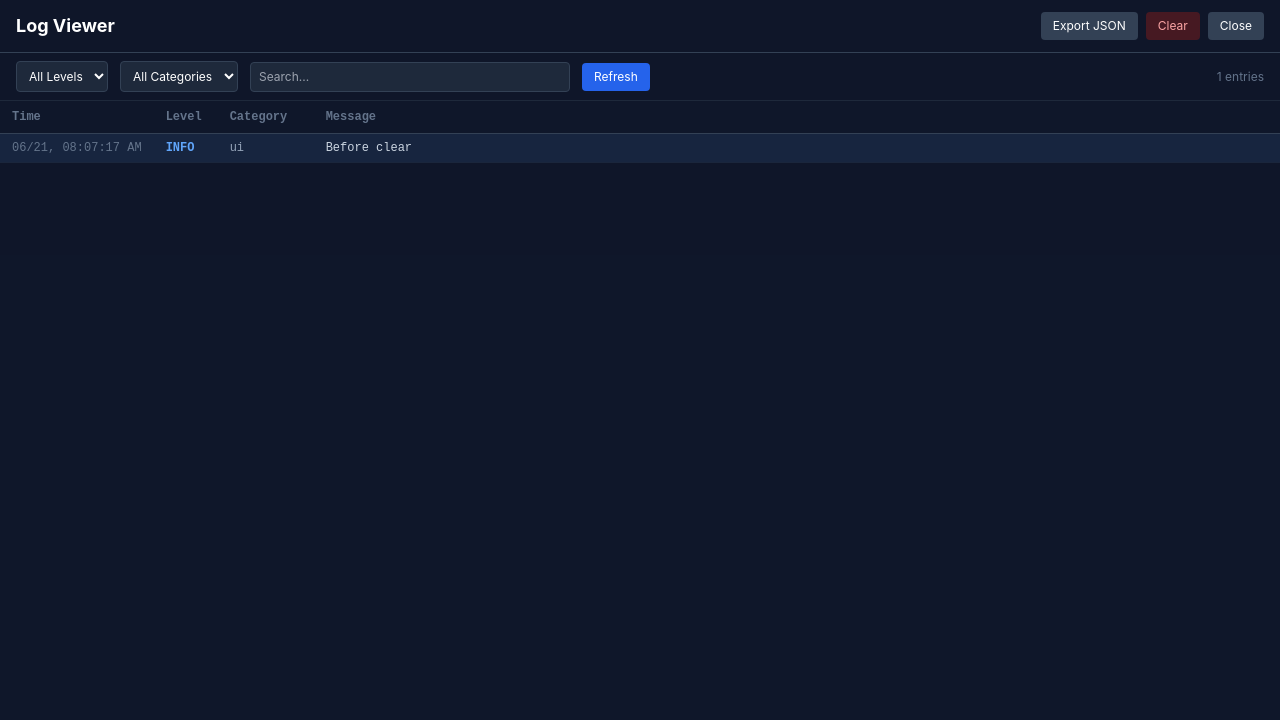
Test: LogViewer › Clearボタン後にgetEntriesが空配列で再取得される
The image size is (1280, 720).
Expected: the text "Before clear" is shown, [326,141,412,155]
Step 1. Click the button "Clear" → (1173, 26), box [1146,12,1200,40]
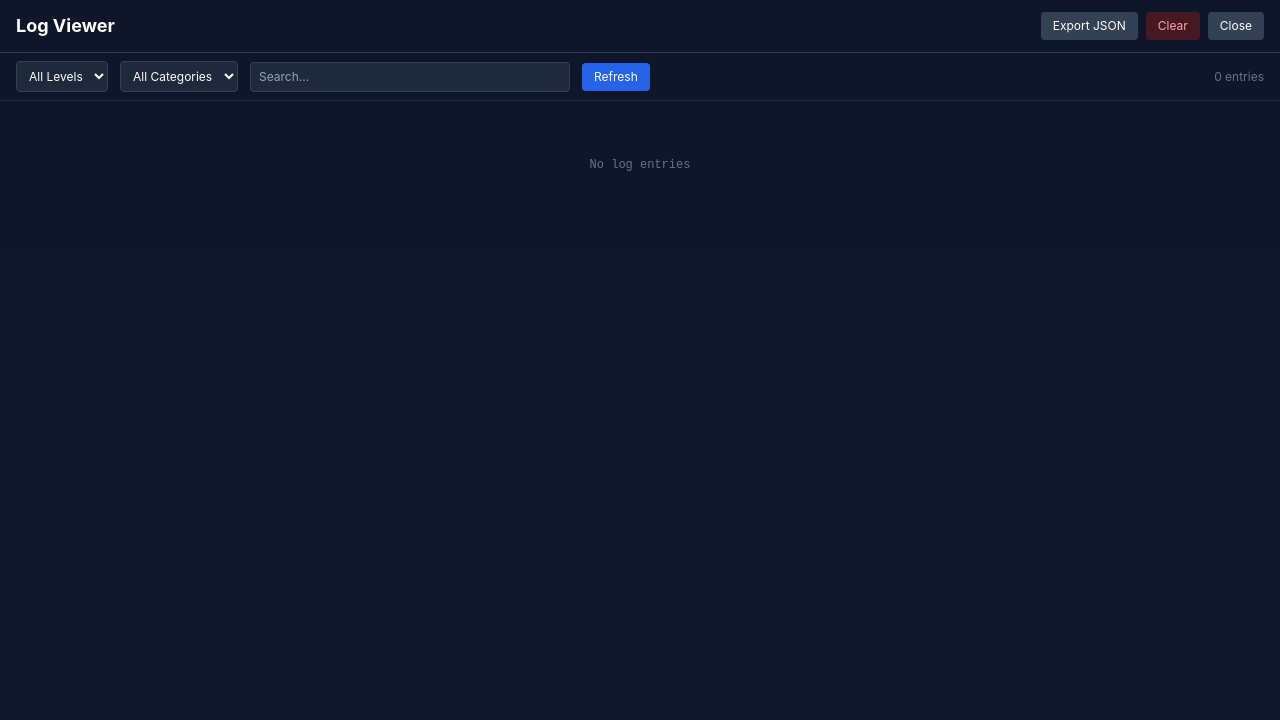
Expected: the text "0 entries" is shown, [1214,68,1264,84]
